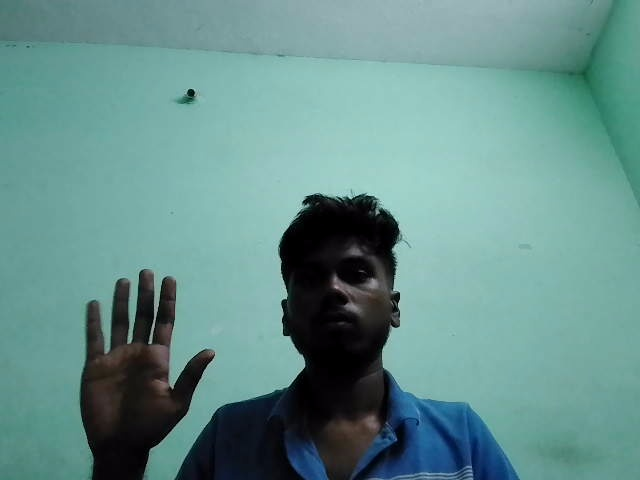Hello: (59, 254, 237, 459)
